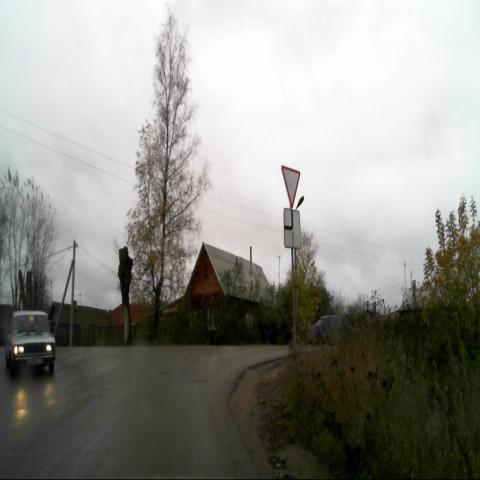2_4: (280, 164, 300, 210)
8_13: (283, 207, 302, 250)
